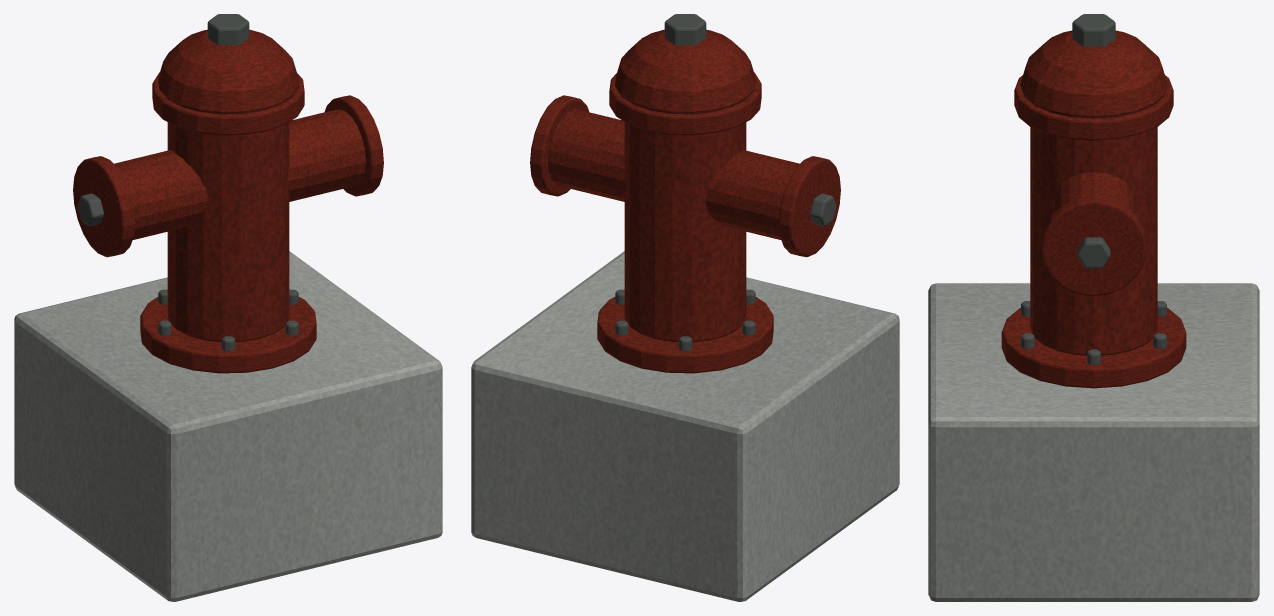
File: street-hydrant.glb
3 views of the same model, side by side, from view 1: azimuth 30°, elevation 25°; view 2: azimuth 150°, elevation 25°; view 3: azimuth 270°, elevation 25° (orthographic). The views are drawn at different scales.
Visible parts, largest first — view 1: hydrant_Hydrant concrete, hydrant_Muted red cast iron, hydrant_Bench dark iron.003; view 2: hydrant_Hydrant concrete, hydrant_Muted red cast iron, hydrant_Bench dark iron.003; view 3: hydrant_Hydrant concrete, hydrant_Muted red cast iron, hydrant_Bench dark iron.003.
Part boxes in pixels (x1,y1,x2,y2): hydrant_Hydrant concrete: (14,251,442,601); hydrant_Muted red cast iron: (73,29,383,373); hydrant_Bench dark iron.003: (77,14,298,351); hydrant_Hydrant concrete: (471,251,899,601); hydrant_Muted red cast iron: (530,29,840,373); hydrant_Bench dark iron.003: (615,14,836,351); hydrant_Hydrant concrete: (928,283,1259,601); hydrant_Muted red cast iron: (1001,30,1186,388); hydrant_Bench dark iron.003: (1021,14,1166,365).
Size of the model in its own units: 0.544 by 0.8905 by 0.52.
3 materials, 2 textured.
